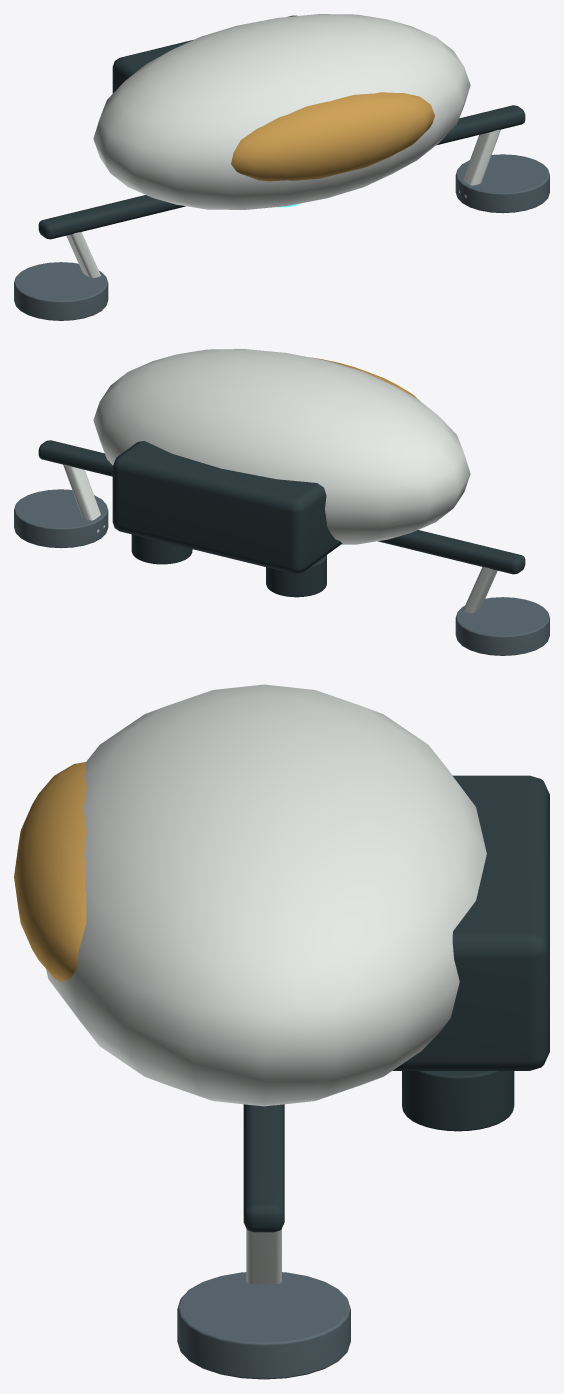
The model's file is lander.glb.
The picture shows the model from 3 angles, top to bottom: view 1: azimuth 30°, elevation 25°; view 2: azimuth 150°, elevation 25°; view 3: azimuth 270°, elevation 25°; orthographic projection. The views are drawn at different scales.
Parts seen in each view (by area): view 1: Lander hull, Cockpit, Landing foot, Landing foot.001, Outrigger, Outrigger.001, Engine block, Landing leg.001, Landing leg; view 2: Lander hull, Engine block, Landing foot, Landing foot.001, Outrigger, Rear engine, Outrigger.001, Rear engine.001, Landing leg.001, Landing leg; view 3: Lander hull, Engine block, Landing foot.001, Cockpit, Rear engine.001, Outrigger.001, Landing leg.001.
Boxes of the visible parts, bbox=[...] form: Lander hull: bbox=[93, 14, 470, 209]; Cockpit: bbox=[231, 92, 434, 181]; Landing foot: bbox=[14, 262, 108, 320]; Landing foot.001: bbox=[455, 154, 549, 213]; Outrigger: bbox=[38, 195, 185, 239]; Outrigger.001: bbox=[436, 105, 525, 145]; Engine block: bbox=[112, 15, 297, 93]; Landing leg.001: bbox=[459, 129, 500, 197]; Landing leg: bbox=[66, 232, 100, 278]; Lander hull: bbox=[93, 349, 470, 544]; Engine block: bbox=[112, 441, 342, 573]; Landing foot: bbox=[455, 597, 549, 655]; Landing foot.001: bbox=[14, 489, 108, 548]; Outrigger: bbox=[378, 530, 525, 574]; Rear engine: bbox=[266, 555, 326, 597]; Outrigger.001: bbox=[38, 440, 112, 476]; Rear engine.001: bbox=[131, 534, 192, 564]; Landing leg.001: bbox=[63, 464, 104, 532]; Landing leg: bbox=[463, 567, 497, 613]; Lander hull: bbox=[46, 684, 486, 1106]; Engine block: bbox=[392, 775, 549, 1070]; Landing foot.001: bbox=[177, 1272, 350, 1379]; Cockpit: bbox=[14, 762, 86, 981]; Rear engine.001: bbox=[402, 1071, 514, 1131]; Outrigger.001: bbox=[243, 1104, 284, 1232]; Landing leg.001: bbox=[246, 1229, 281, 1284].
Size of the model in its own units: 10.9 by 4.2 by 5.25.
